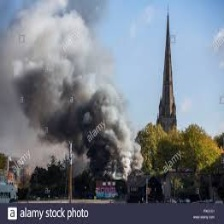smoke: (8, 18, 142, 186)
